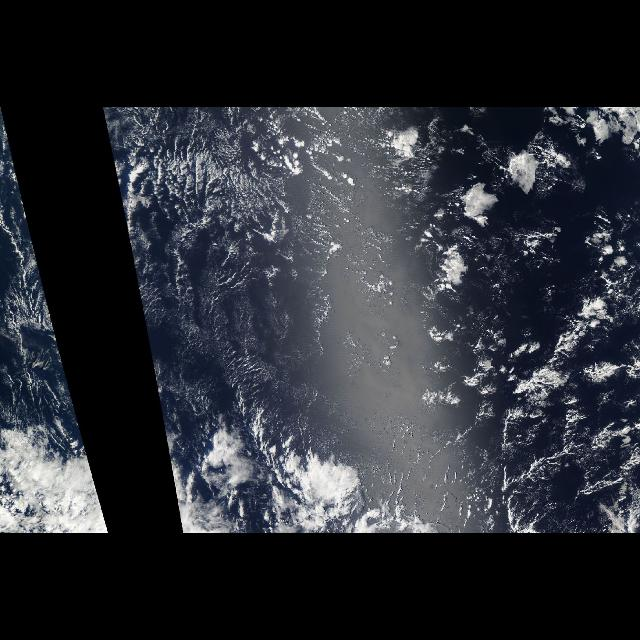Flower: (382, 118, 636, 474)
Gravel: (479, 318, 631, 528)
Sugar: (108, 131, 346, 439)
